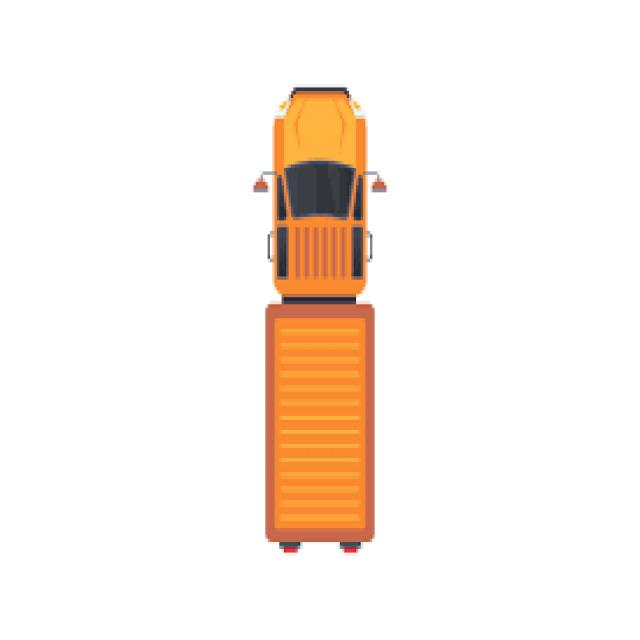truck: (265, 85, 378, 552)
